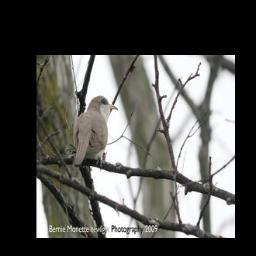Cuckoo: (71, 94, 117, 169)
